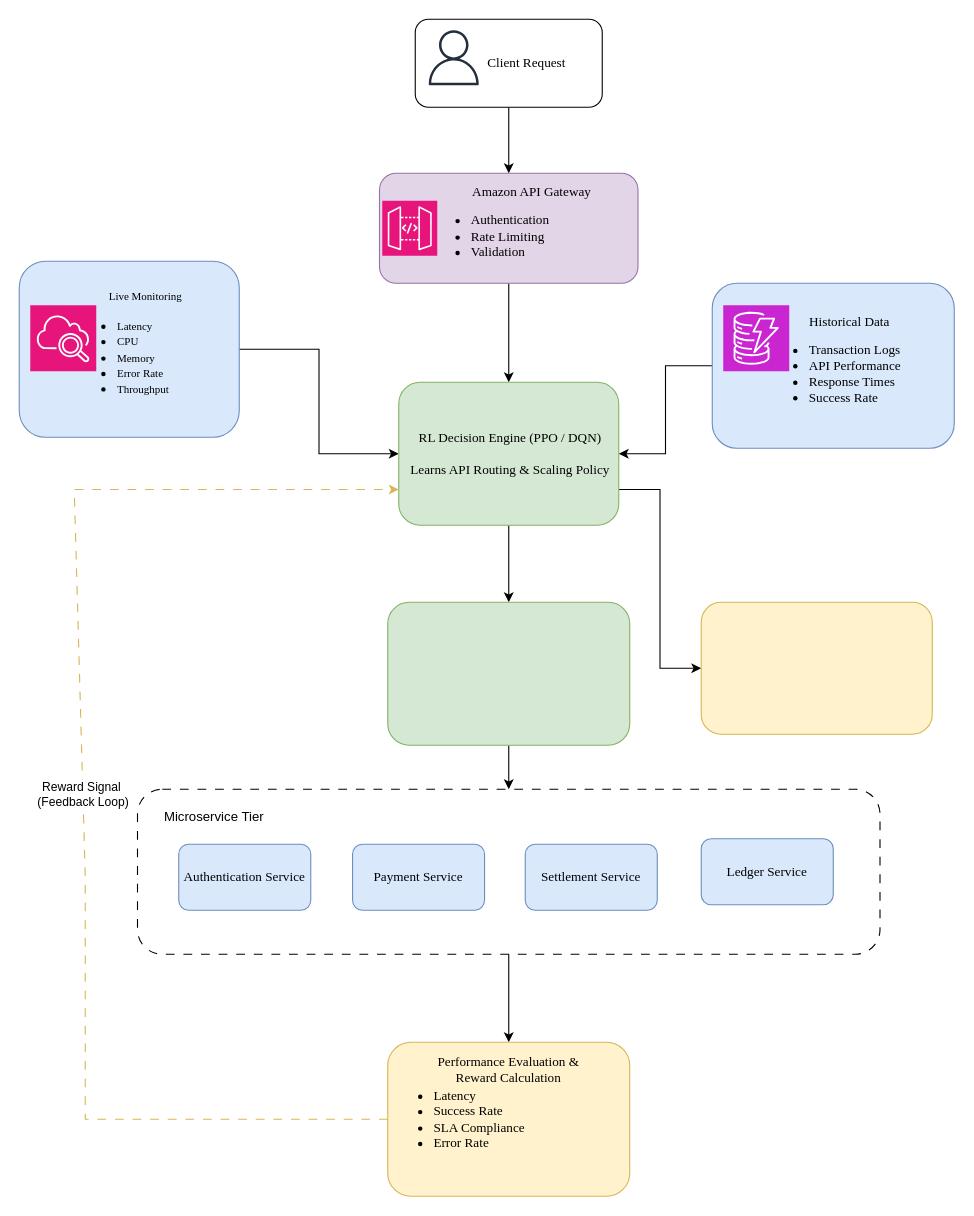
This 974x1216 diagram has some shape labels left out. Each missing label, with the centre of its shape:
"Adaptive Orchestration API Routing Load Balancing Auto Scaling" belongs at pixel 508 673.
"Explainability SHAP / LIME Decision Reason Feature Importance" belongs at pixel 816 667.
